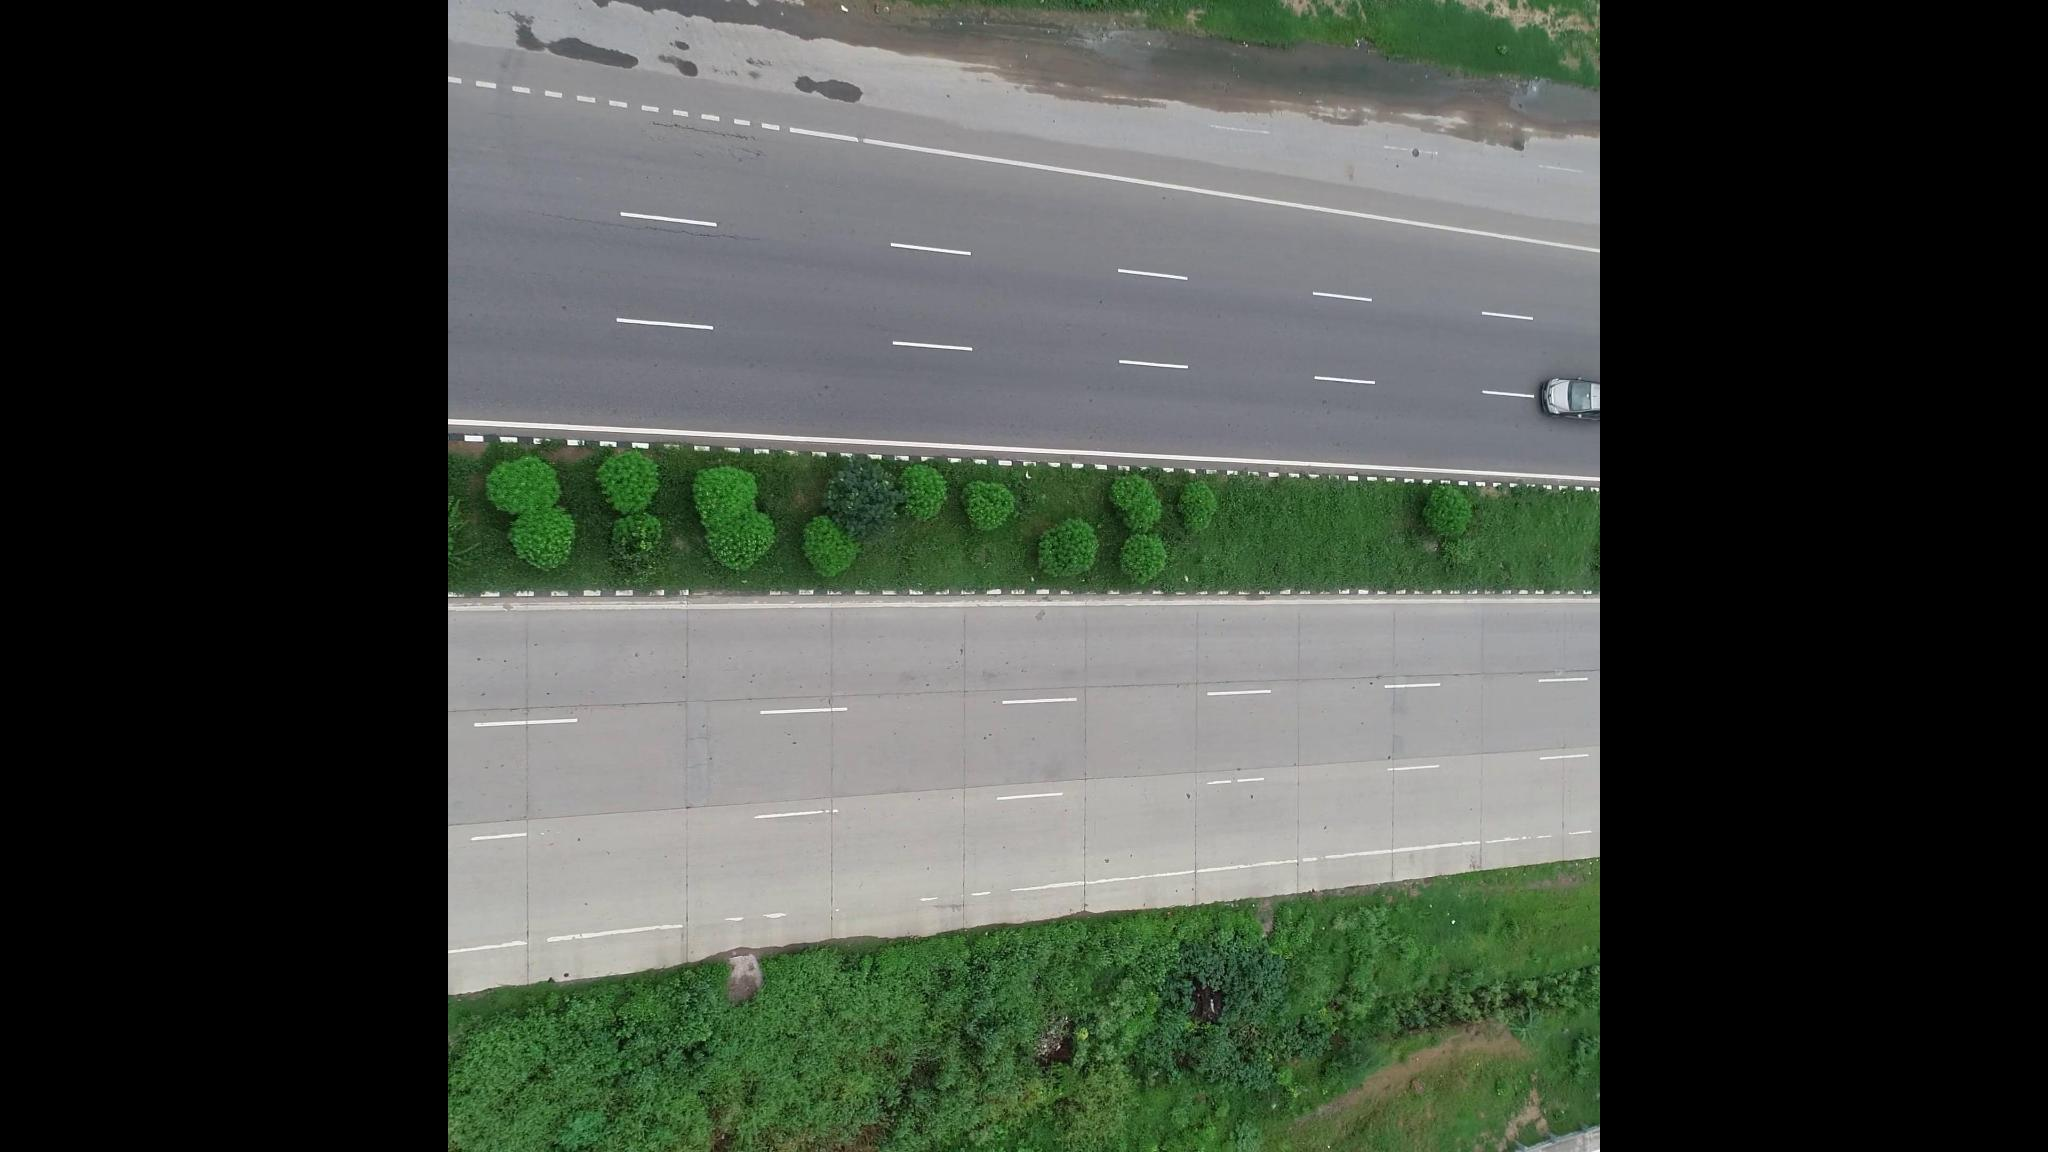Cracks: (563, 214, 769, 259), (648, 120, 762, 159)
